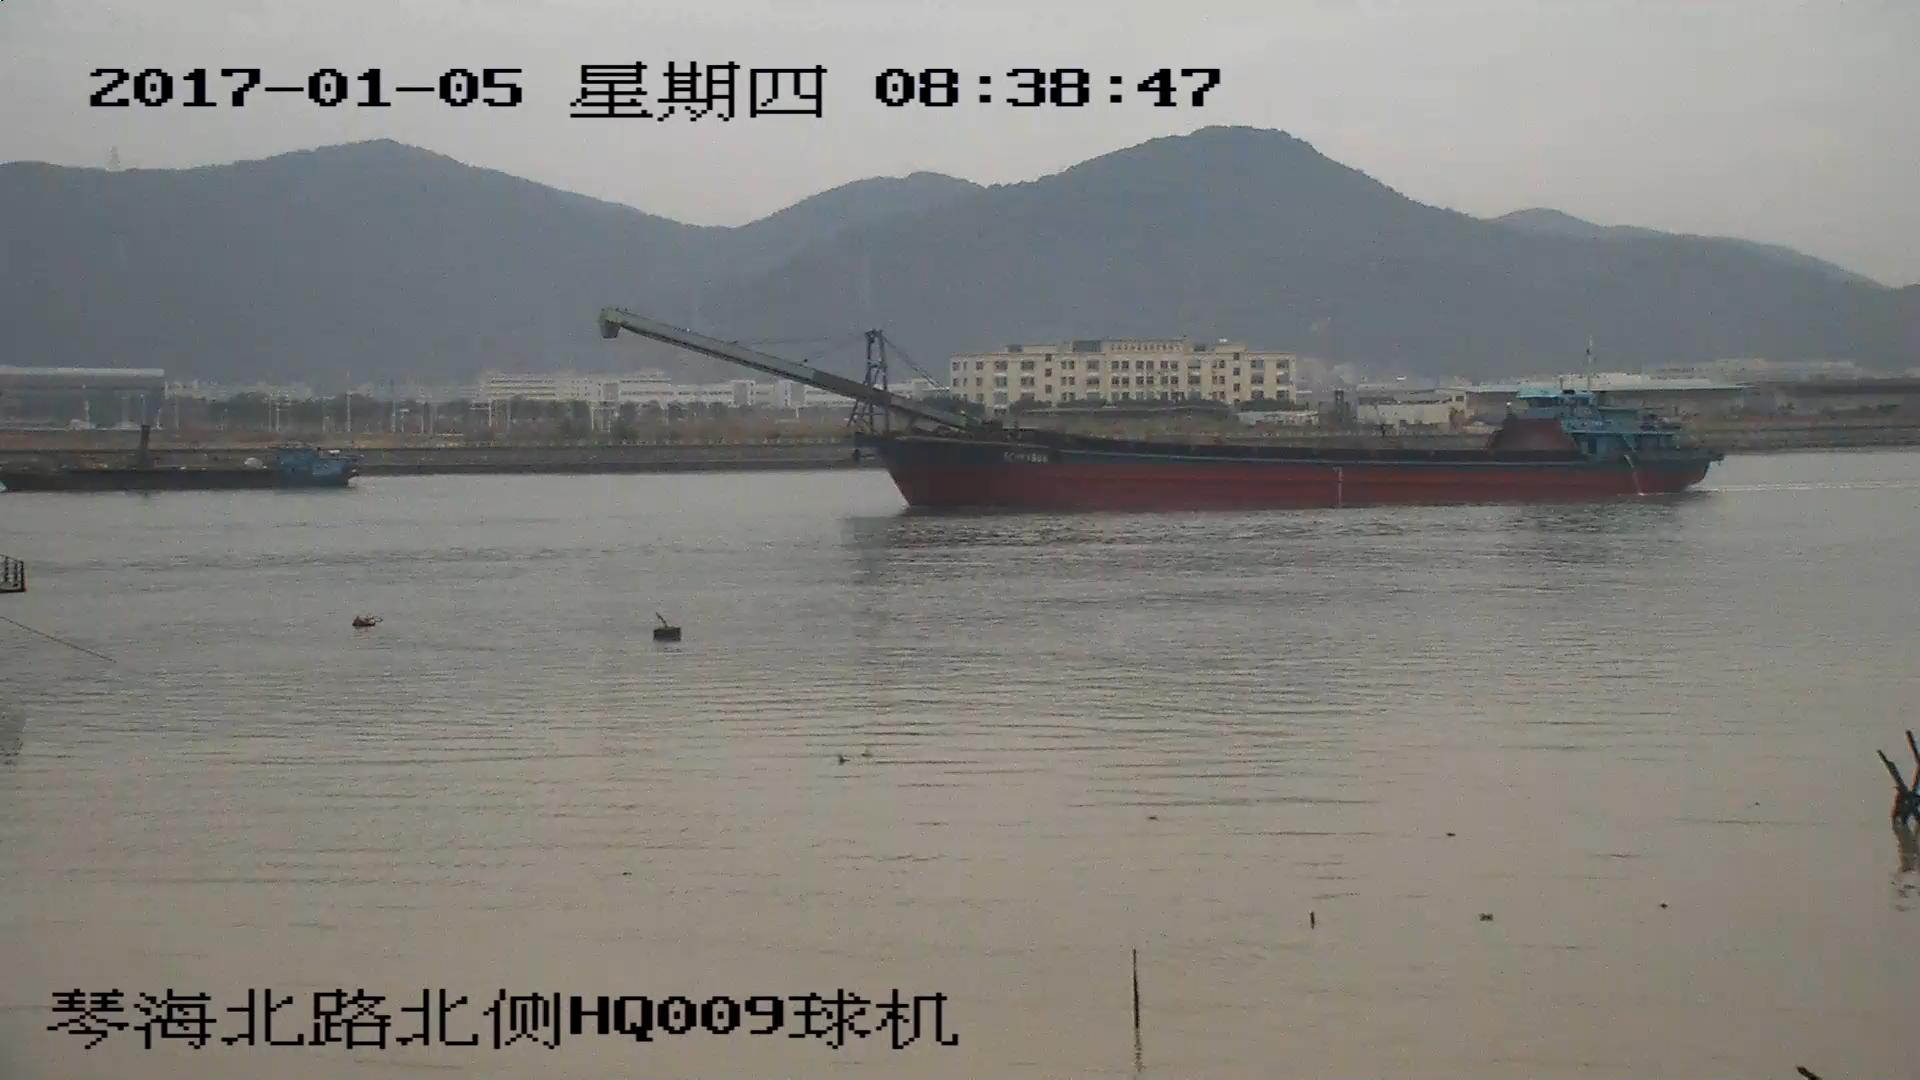bulk cargo carrier: (601, 314, 1728, 516)
